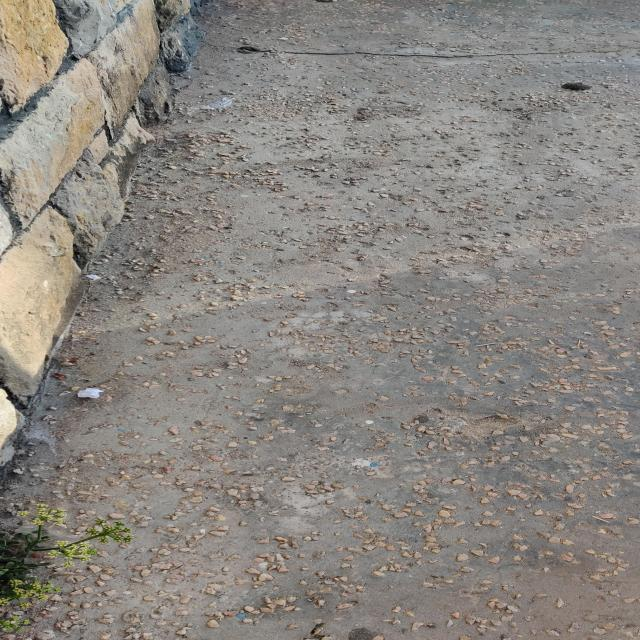litter: (187, 97, 233, 115), (77, 388, 105, 398), (84, 275, 102, 280), (236, 613, 245, 619), (369, 462, 377, 467), (202, 255, 208, 258), (219, 264, 225, 266), (117, 430, 125, 431)
